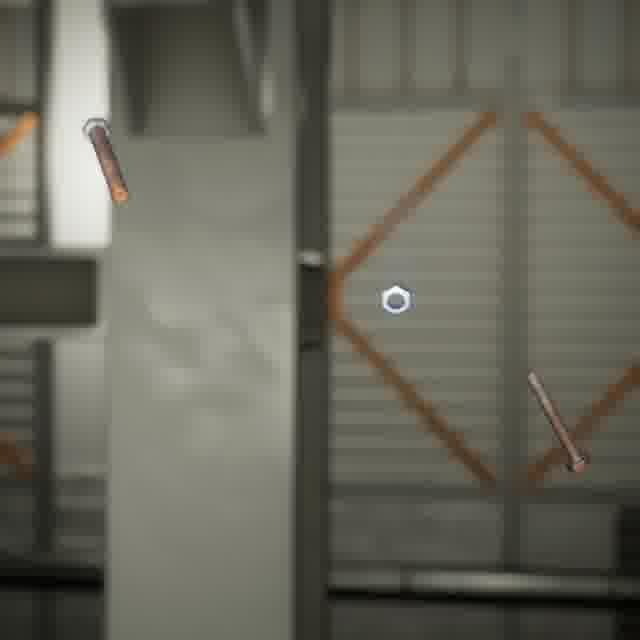bolt: (519, 365, 595, 477), (77, 113, 133, 207)
nut: (377, 277, 415, 320)
